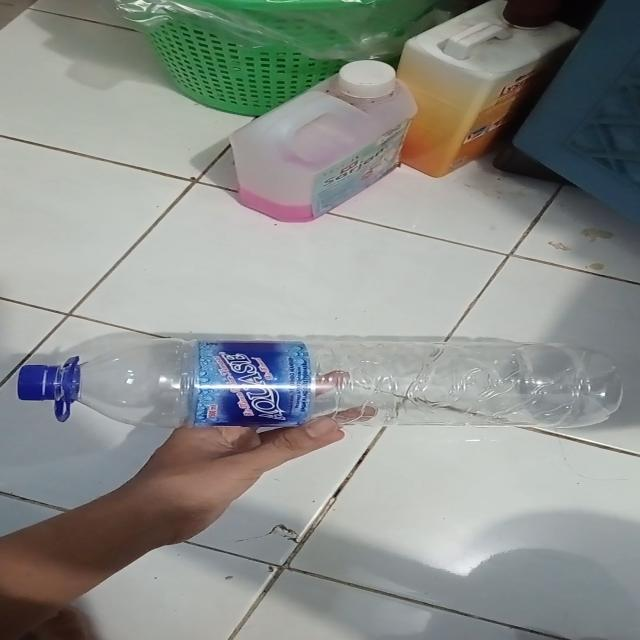Botol bekas: (16, 336, 624, 430)
